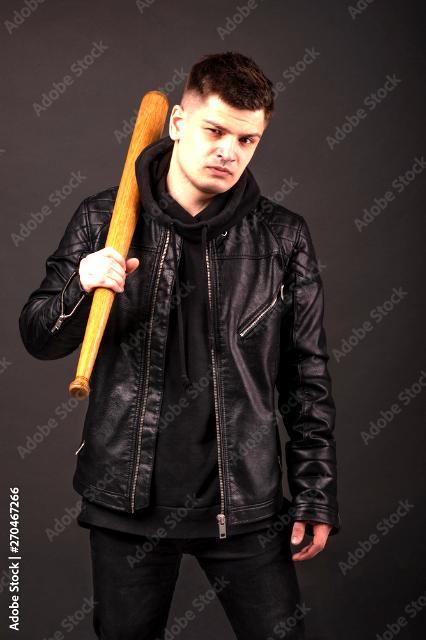baseball bat: (57, 80, 184, 407)
